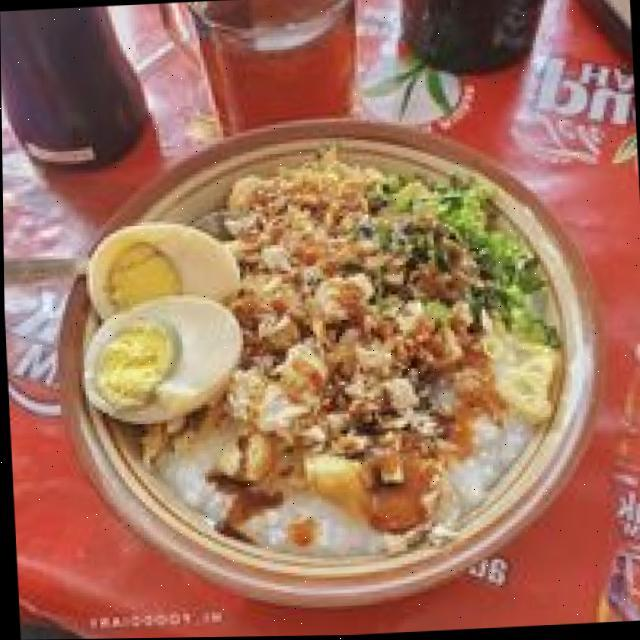bubur ayam: (121, 152, 566, 568)
mangkuk: (38, 106, 622, 622)
telur rebus: (78, 294, 246, 428), (81, 216, 246, 322)
